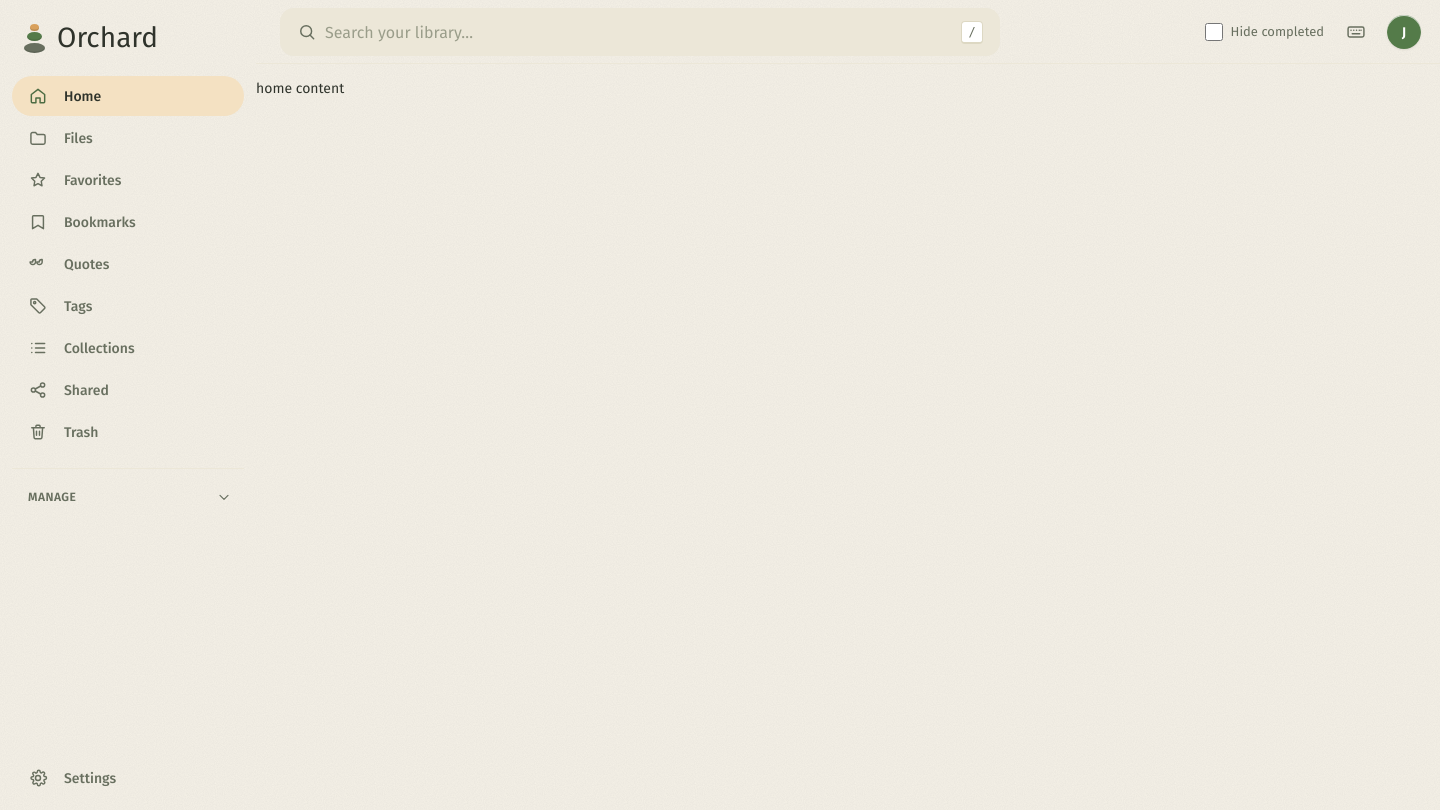
Test: AppShell › labels an administrator as such
Step 1. Click the button named "Account: jishnu" → x=1404, y=32, box [1384,12,1424,52]
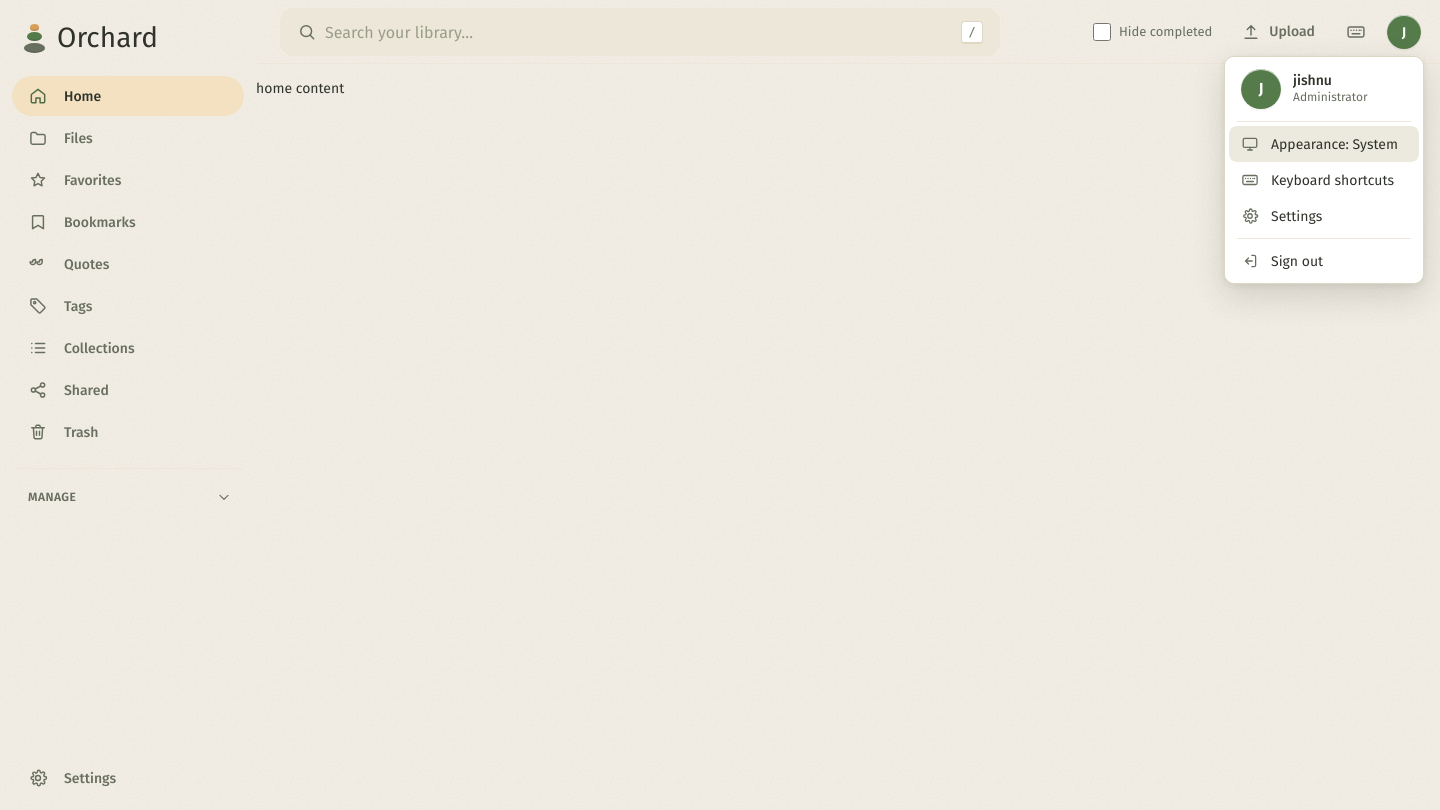
Check: the text "Administrator" is shown, box [1293,90,1368,106]
